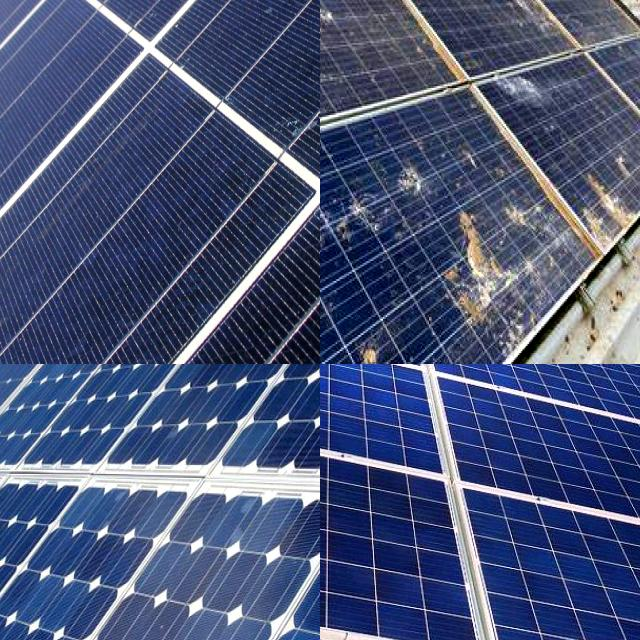bird: (320, 166, 376, 268), (449, 206, 492, 332), (483, 64, 563, 120), (582, 146, 626, 247), (492, 0, 572, 49), (502, 181, 572, 236), (320, 286, 358, 364), (320, 54, 346, 127), (320, 74, 350, 136), (399, 146, 430, 199), (356, 328, 397, 364), (320, 0, 357, 36), (320, 9, 350, 50), (320, 0, 351, 37), (411, 0, 456, 21), (338, 0, 372, 25), (320, 0, 340, 22)
crack: (0, 0, 320, 364), (320, 404, 583, 640), (84, 364, 320, 581), (421, 364, 640, 554), (0, 364, 222, 514), (442, 485, 640, 640), (131, 500, 320, 640), (320, 364, 496, 497), (405, 364, 640, 444), (396, 364, 640, 422), (393, 364, 633, 416), (320, 364, 470, 444), (368, 364, 594, 416), (320, 364, 457, 427), (320, 364, 440, 405)
